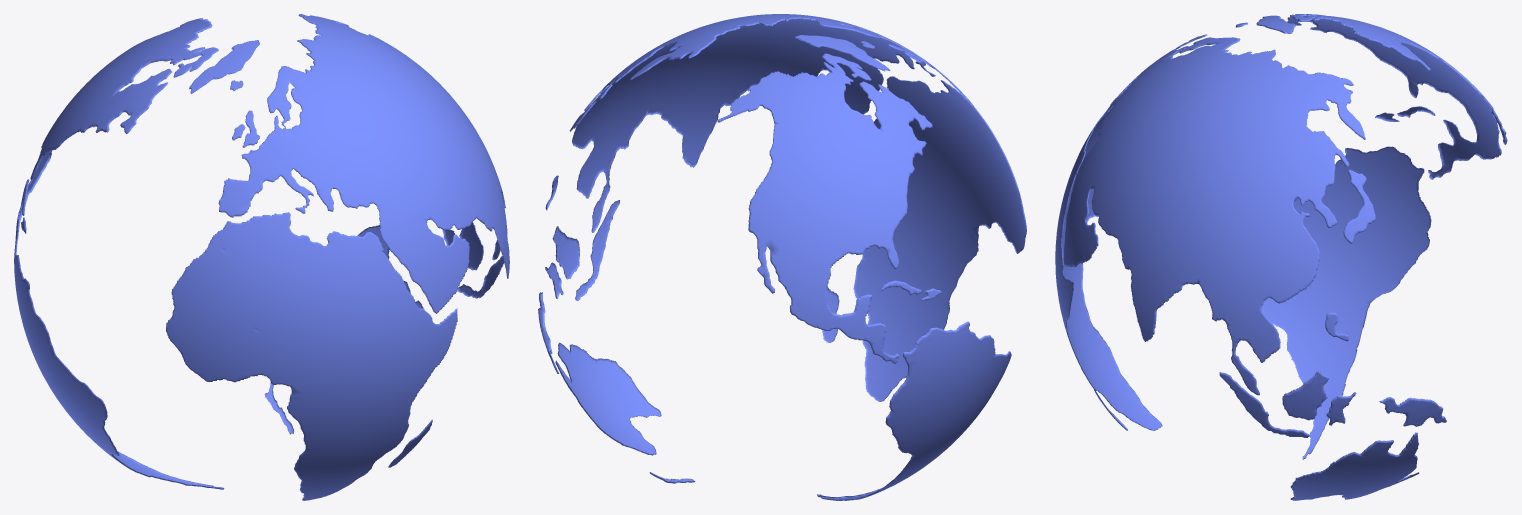
Rendered from globe1.gltf.
The picture shows the model from 3 angles, left to right: view 1: azimuth 30°, elevation 25°; view 2: azimuth 150°, elevation 25°; view 3: azimuth 270°, elevation 25°; orthographic projection.
Visible parts, largest first — view 1: globe; view 2: globe; view 3: globe.
Part boxes in pixels (left/top/right/bottom): globe: left=14, top=14, right=509, bottom=500; globe: left=538, top=14, right=1026, bottom=500; globe: left=1055, top=14, right=1507, bottom=500.
Bounding box in the file's own units: 1.18 × 1.18 × 1.09.
